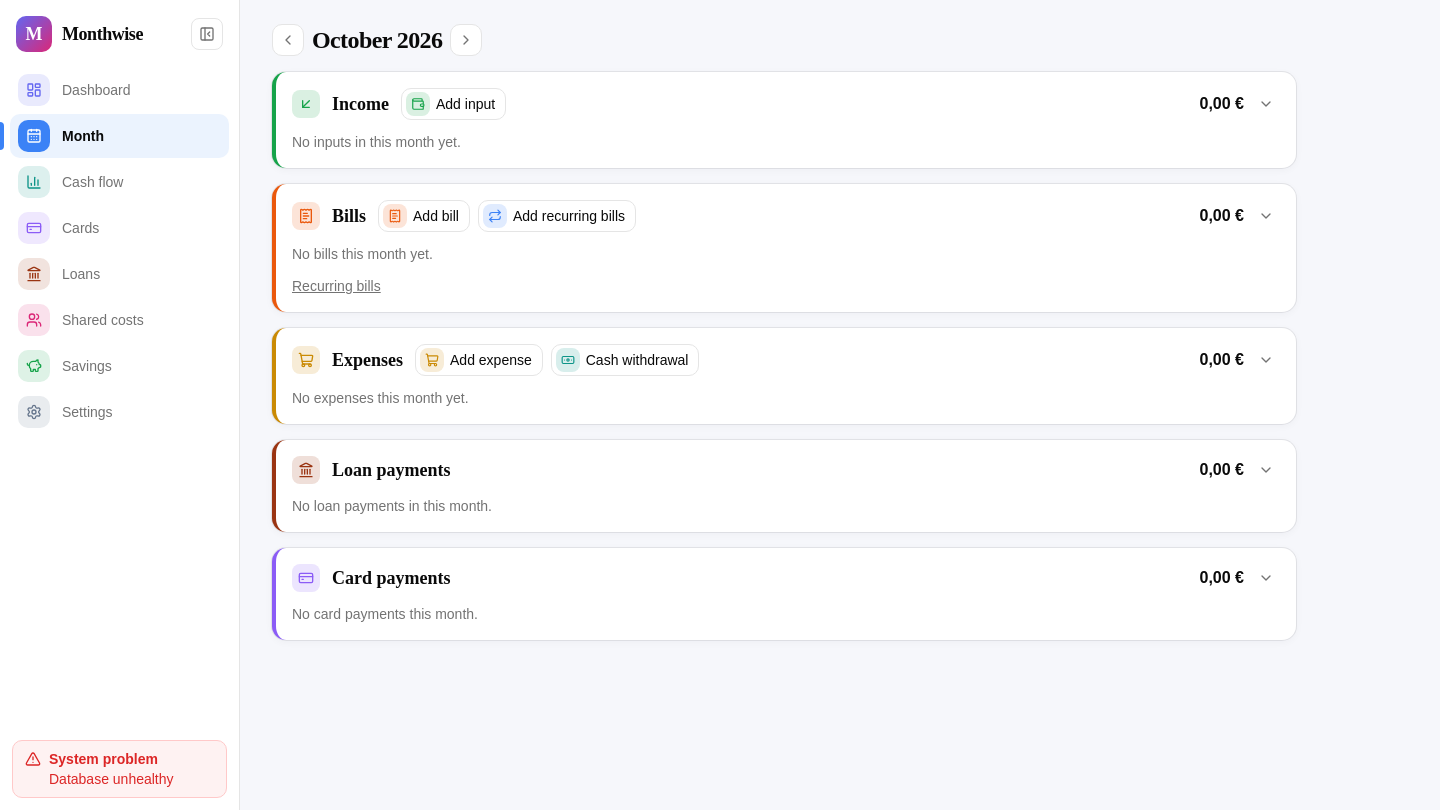
it: Bills on the Month screen › adds the recurring bills to the next month and says how many were added
Click the button "Add recurring bills": click(557, 216) [478, 200, 636, 232]
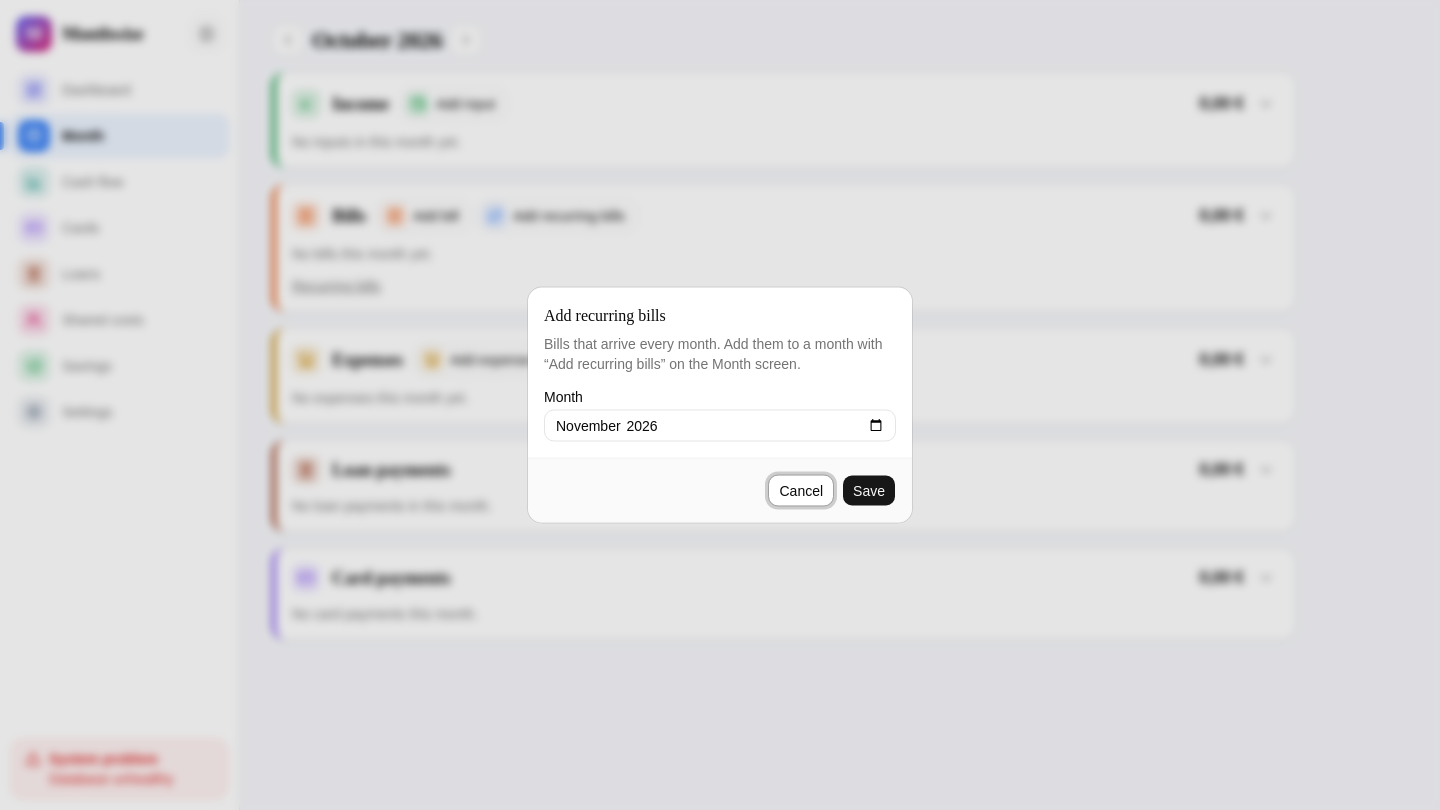
Expected: the field labelled "Month" holds "2026-11", [544, 410, 896, 442]
Click the button "Save": click(869, 490) [842, 474, 896, 506]
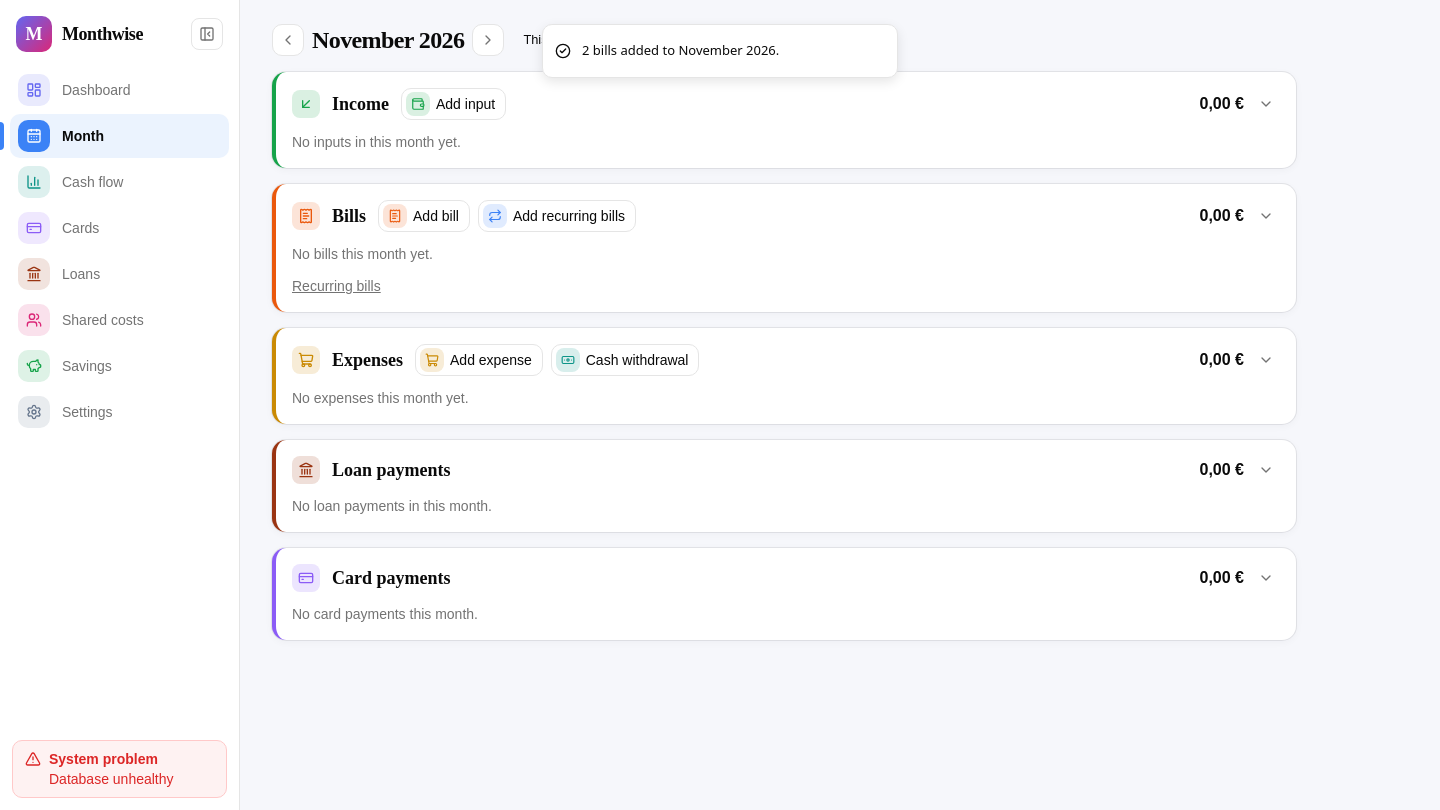
Expected: the text "2 bills added to November 2026." is shown, [582, 41, 779, 60]
